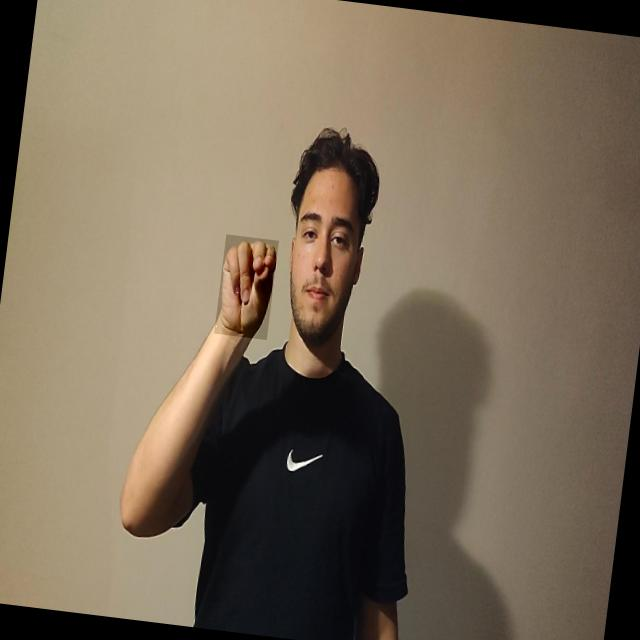no: (214, 234, 278, 339)
